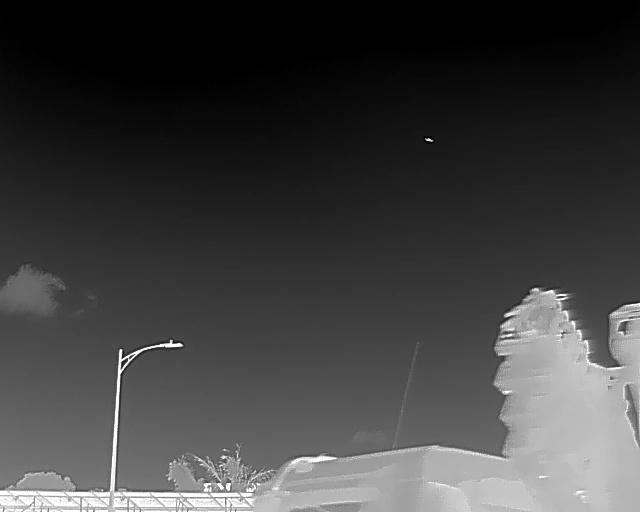fpv-drone: (424, 137, 434, 143)
